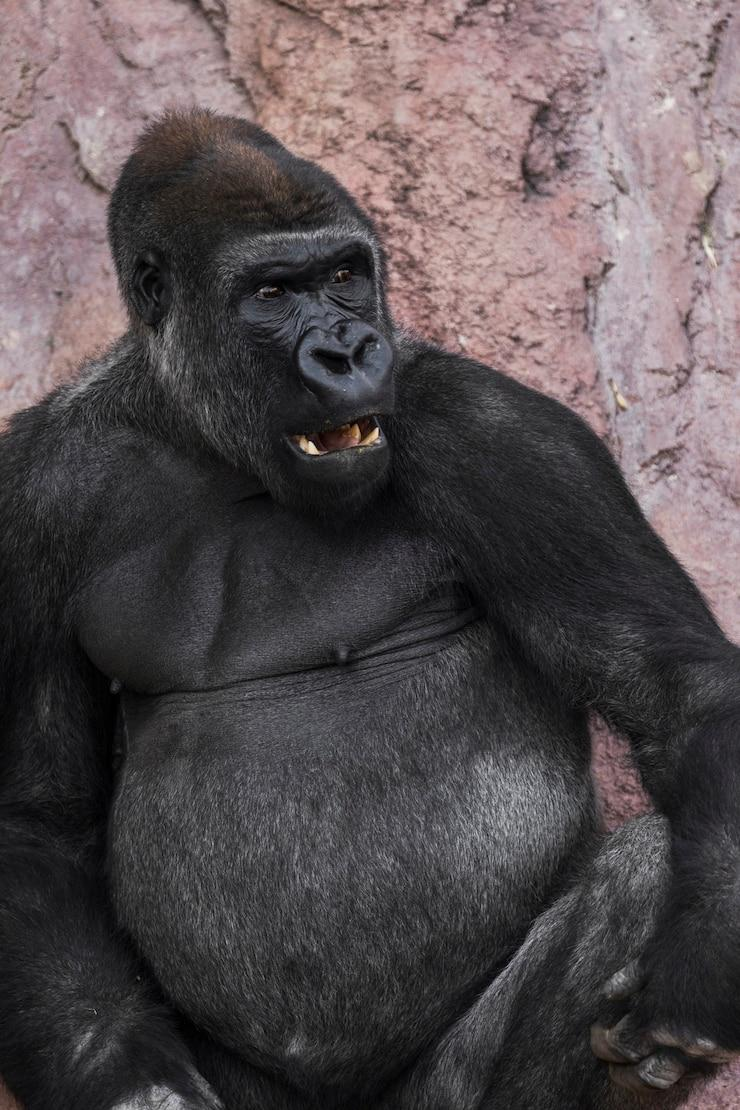gorille_Autres: (10, 110, 740, 1110)
